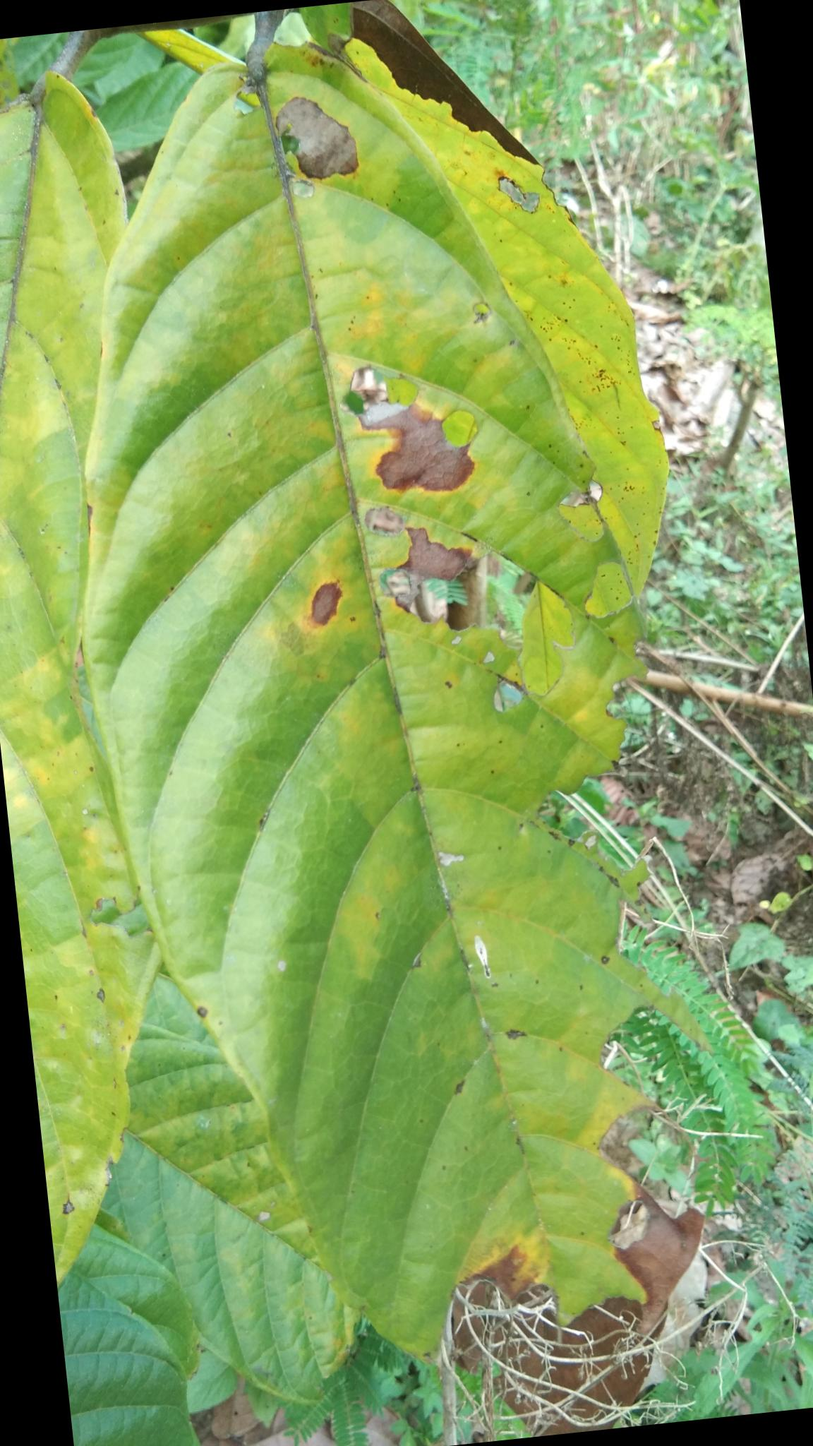Fosforo: (92, 35, 646, 1389)
